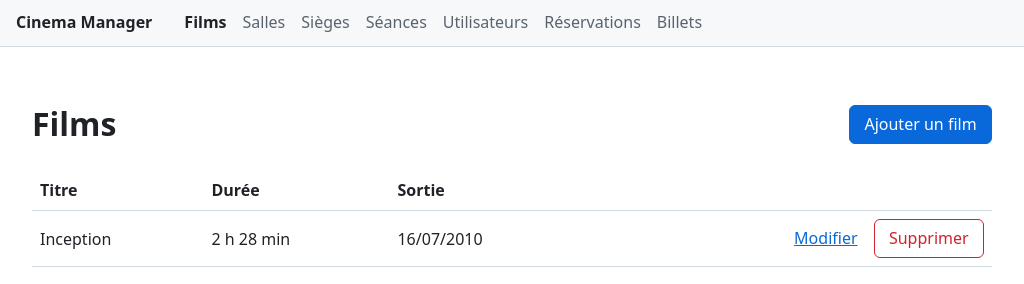
Test: MoviesPage › deletes a movie after confirmation
Click the button "Supprimer" at (929, 238), box [874,219,984,258]
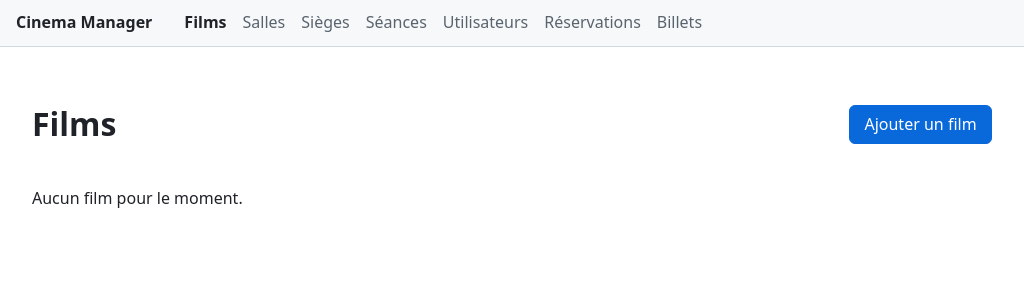
Check: the text "Aucun film pour le moment." is shown, box [32,187,243,209]
